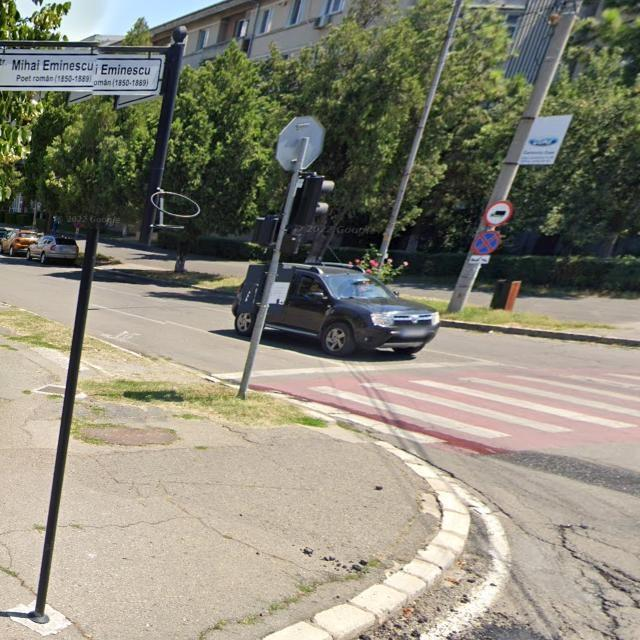forb_waiting: (471, 231, 501, 256)
